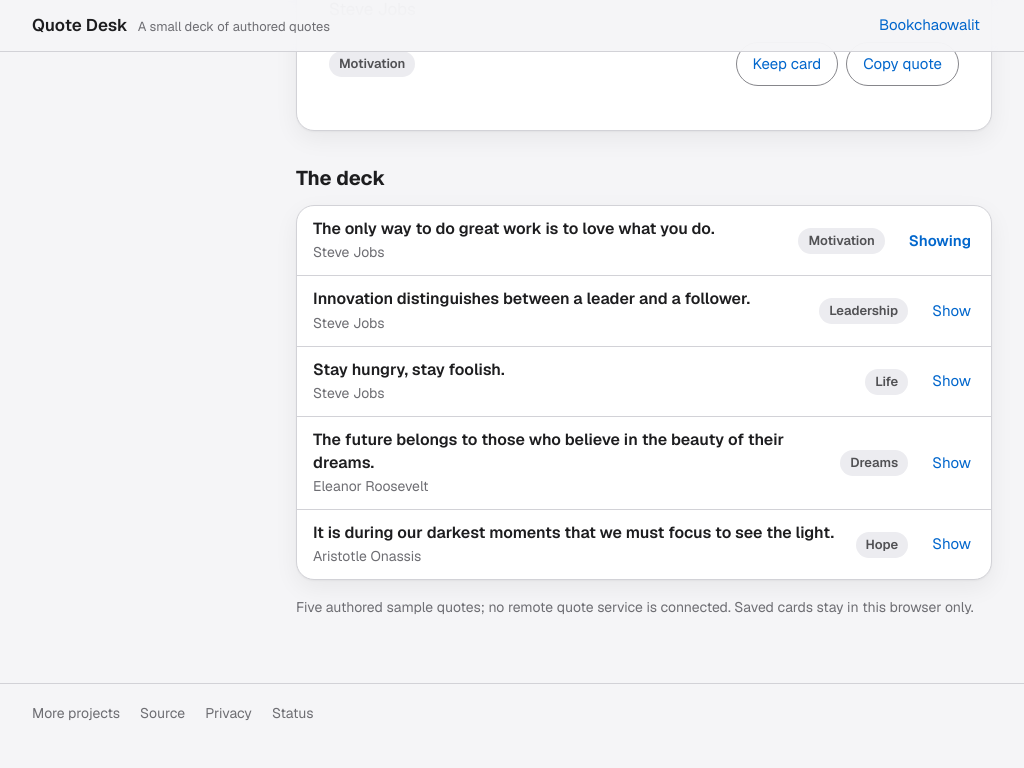
Scenario: quote desk › shows a quote from the list and moves focus to the card once the new quote is on screen
(page scrolled)
What coordinates should you click on to do the following:
click the button "Show" in the row of "Eleanor Roosevelt"
I would click on:
 (952, 463)
Its box is [920,441,983,485].
(page scrolled)
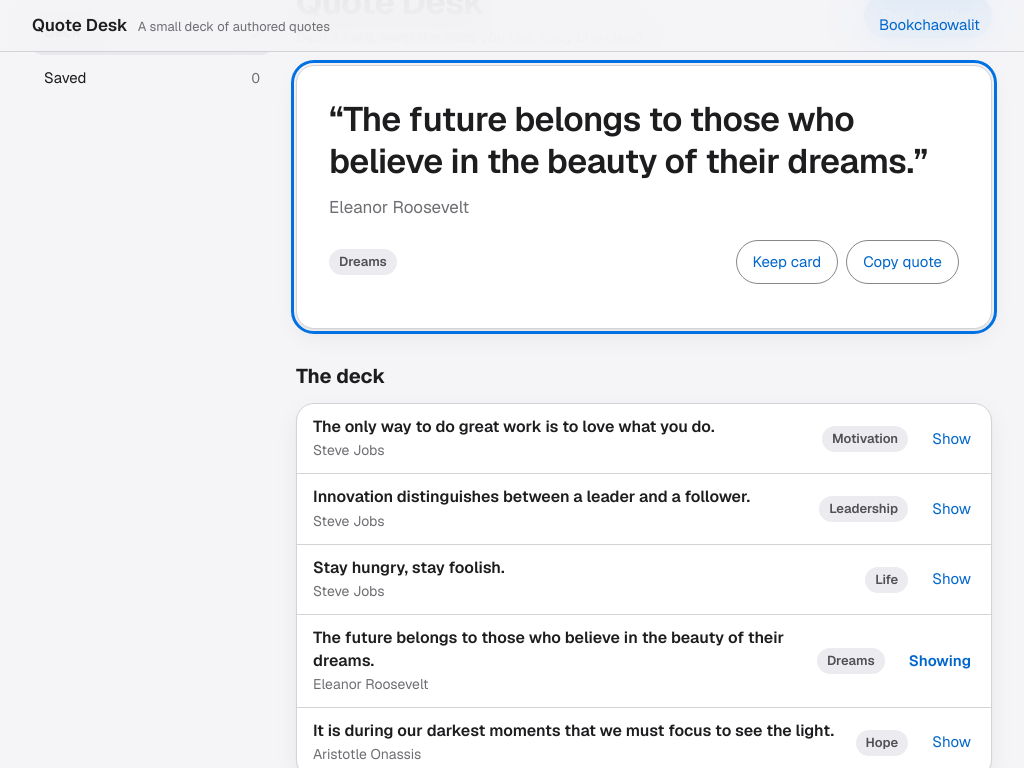
Now the text "beauty of their dreams" is shown, box [329,97,914,183]
